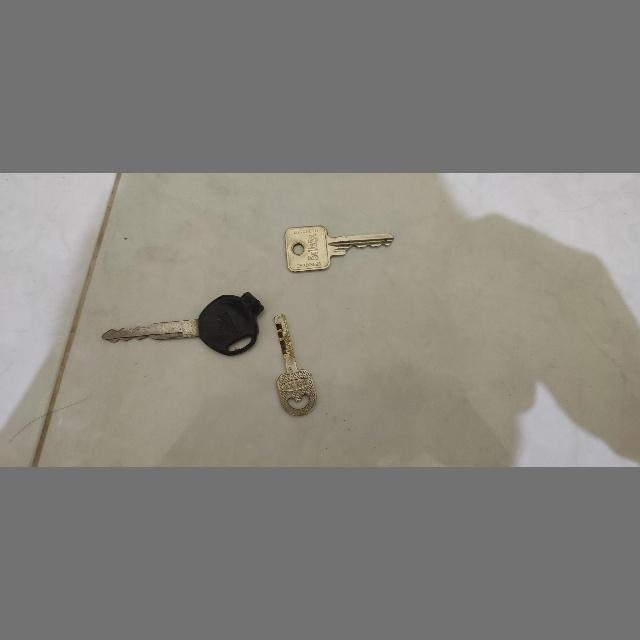Keys: (100, 290, 272, 358), (282, 222, 398, 274), (270, 312, 322, 420)
